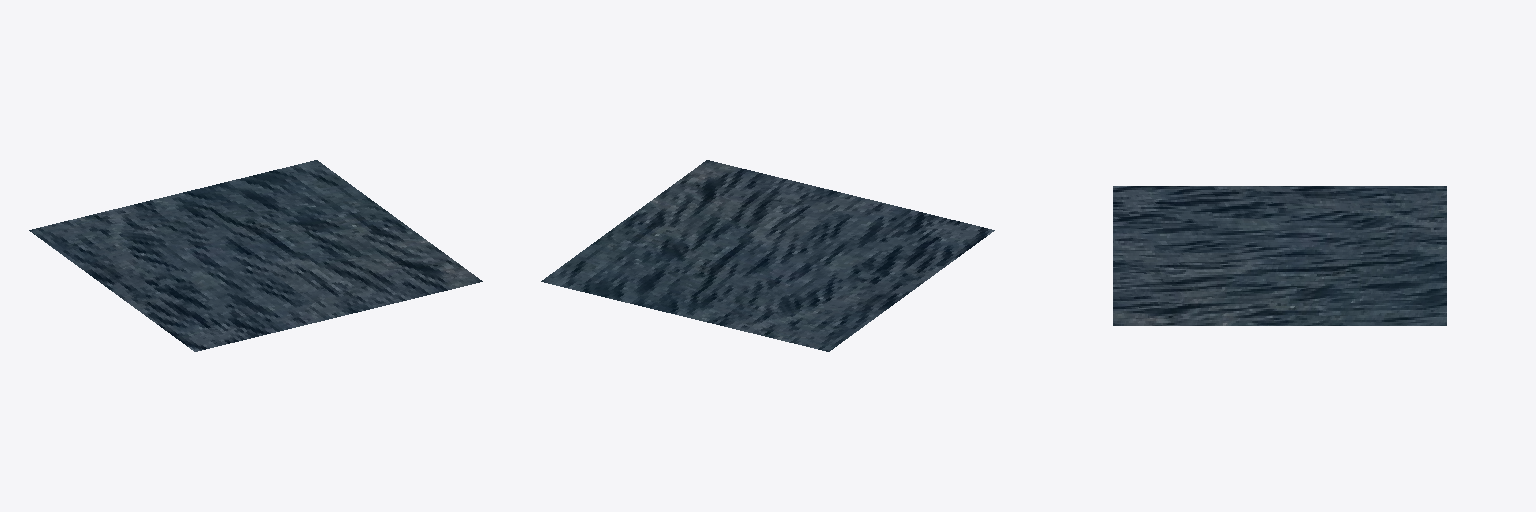
3 renders of one model, left to right at view 1: azimuth 30°, elevation 25°; view 2: azimuth 150°, elevation 25°; view 3: azimuth 270°, elevation 25°, orthographic.
Visible parts, largest first — view 1: Plane; view 2: Plane; view 3: Plane.
Part boxes in pixels (left/top/right/bottom): Plane: left=29, top=160, right=482, bottom=351; Plane: left=541, top=160, right=994, bottom=351; Plane: left=1113, top=186, right=1446, bottom=325.
Size of the model in its own units: 2 by 0 by 2.
1 materials, 1 textured.